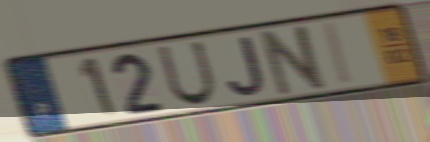1: (76, 55, 119, 118)
2: (107, 48, 171, 120)
I: (323, 20, 356, 88)
J: (225, 33, 268, 98)
N: (258, 21, 332, 99)
U: (155, 39, 219, 108)
